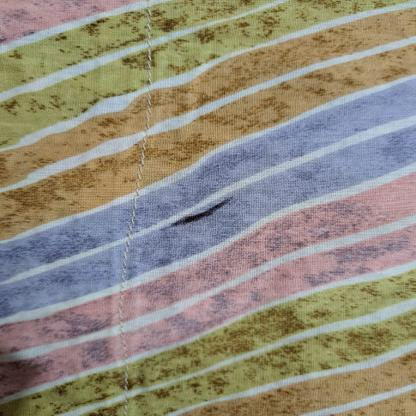spot: (137, 189, 251, 243)
